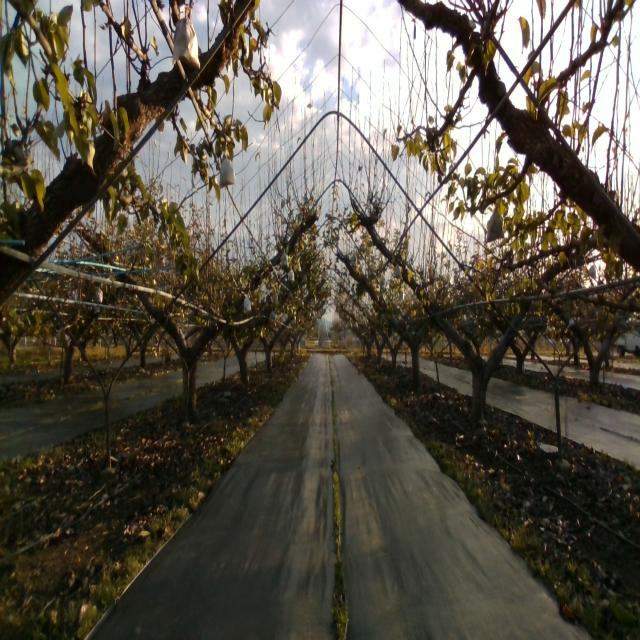pearbags: (172, 15, 201, 70), (486, 204, 505, 242), (218, 154, 236, 191)
